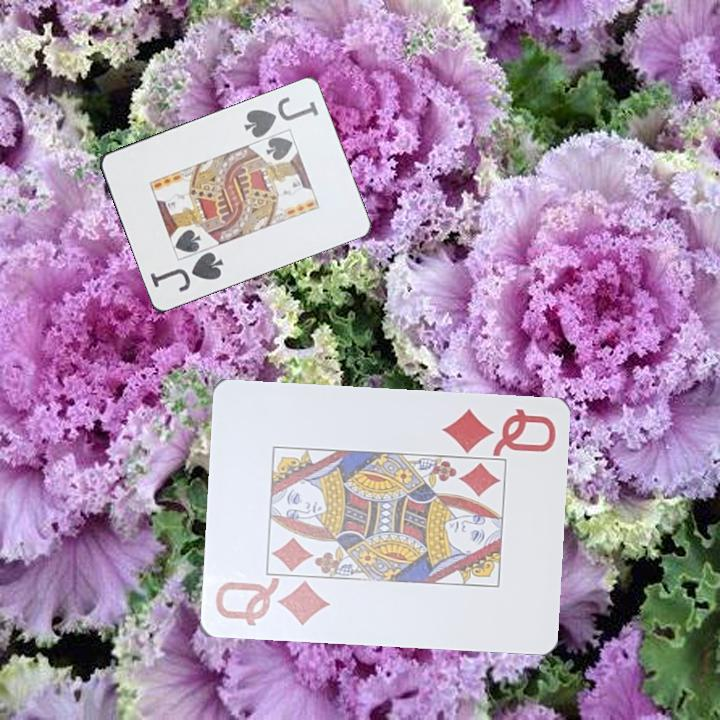Js: (240, 93, 321, 141), (146, 249, 226, 296)
Qd: (211, 577, 332, 630), (437, 405, 558, 457)
